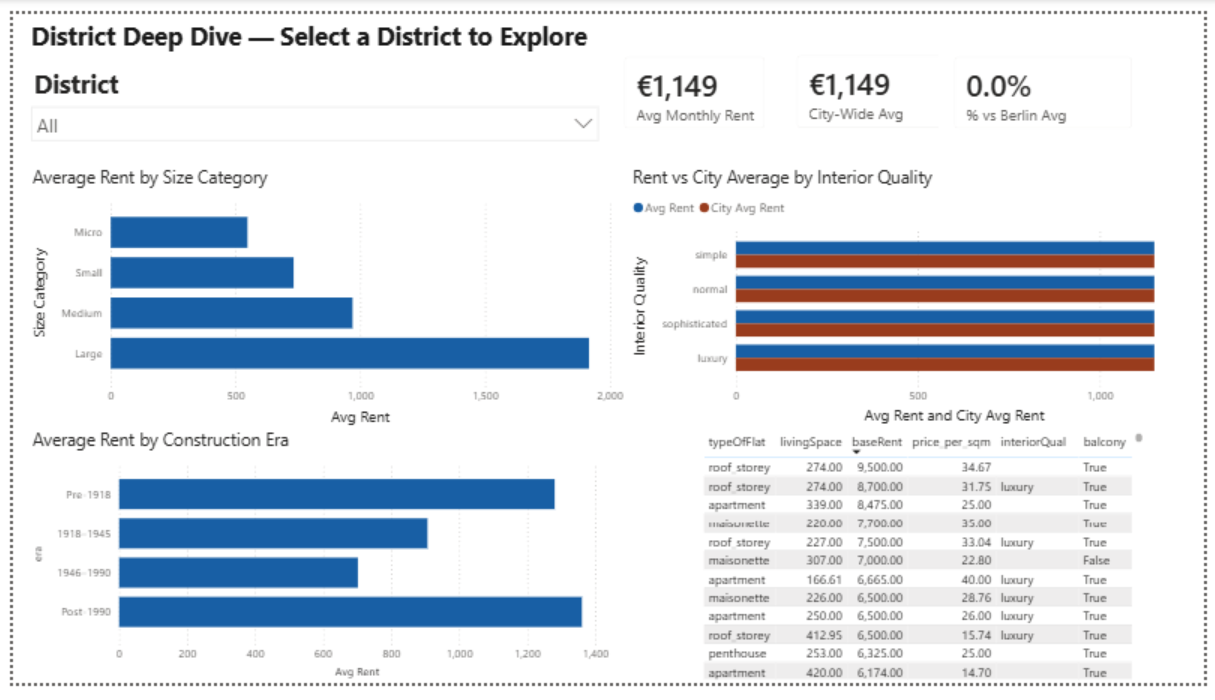

The dashboard page shown, as its layout file describes it:
{"tool":"powerbi","page":{"name":"District Deep Dive","canvas":[1280,720],"ordinal":1},"visuals":[{"type":"textbox","box":[15,0,721.7,53.3],"z":0},{"type":"slicer","fields":{"Values":["dim_Bezirk.bezirk"]},"box":[10,51.7,630,88.3],"z":1000},{"type":"cardVisual","fields":{"Data":["fact_listings.Avg Rent Display"]},"box":[640,28.3,185,111.7],"z":2000},{"type":"cardVisual","fields":{"Data":["fact_listings.City Avg Rent Display"]},"box":[825.4,27.8,218,112.7],"z":3000},{"type":"cardVisual","fields":{"Data":["fact_listings.Rent % vs City Display"]},"box":[995,28.3,225,111.7],"z":4000},{"type":"clusteredBarChart","title":"Average Rent by Size Category","fields":{"Category":["dim_SizeCategory.size_category"],"Y":["fact_listings.Avg Rent"]},"box":[15.7,162.9,645.7,284.3],"z":5000},{"type":"clusteredBarChart","title":"Average Rent by Construction Era","fields":{"Category":["dim_Era.era"],"Y":["fact_listings.Avg Rent"]},"box":[15.7,445.7,630,274.3],"z":6000},{"type":"clusteredBarChart","title":"Rent vs City Average by Interior Quality","fields":{"Category":["dim_InteriorQual.interiorQual"],"Y":["fact_listings.Avg Rent","fact_listings.City Avg Rent"]},"box":[661.4,162.9,605.7,284.3],"z":8000},{"type":"tableEx","fields":{"Values":["fact_listings.typeOfFlat","fact_listings.livingSpace","fact_listings.baseRent","fact_listings.price_per_sqm","fact_listings.interiorQual","fact_listings.balcony"]},"box":[736.7,445,483.3,275],"z":9000}]}

Visuals, with their boxes in screenshot pixels (x1, y1, x2, y2), scaled from the page's 1280x720 canvas onto the 1215x700 screenshot:
textbox: BBox(14, 0, 699, 52)
slicer - dim_Bezirk.bezirk: BBox(9, 50, 608, 136)
cardVisual - fact_listings.Avg Rent Display: BBox(608, 28, 783, 136)
cardVisual - fact_listings.City Avg Rent Display: BBox(783, 27, 990, 137)
cardVisual - fact_listings.Rent % vs City Display: BBox(944, 28, 1158, 136)
"Average Rent by Size Category" clusteredBarChart: BBox(15, 158, 628, 435)
"Average Rent by Construction Era" clusteredBarChart: BBox(15, 433, 613, 699)
"Rent vs City Average by Interior Quality" clusteredBarChart: BBox(628, 158, 1203, 435)
tableEx - fact_listings.typeOfFlat x fact_listings.livingSpace: BBox(699, 433, 1158, 699)
